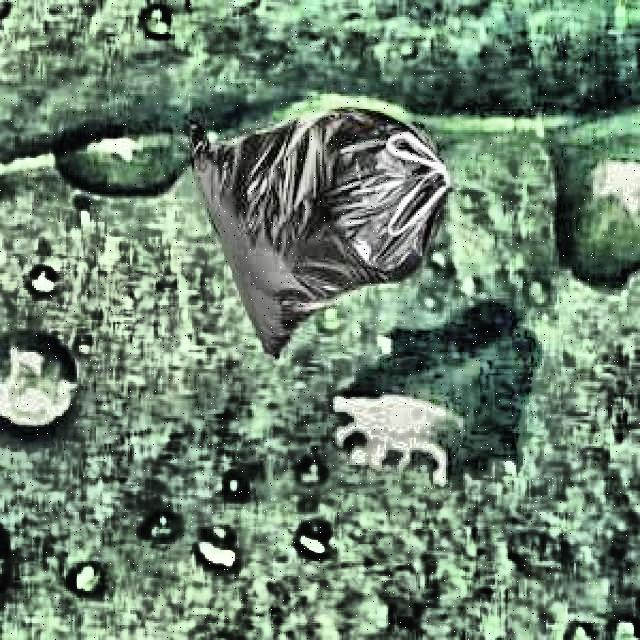Trashbag: (182, 95, 459, 368)
